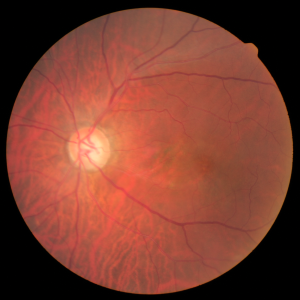glaucoma: (36, 100, 244, 217)
